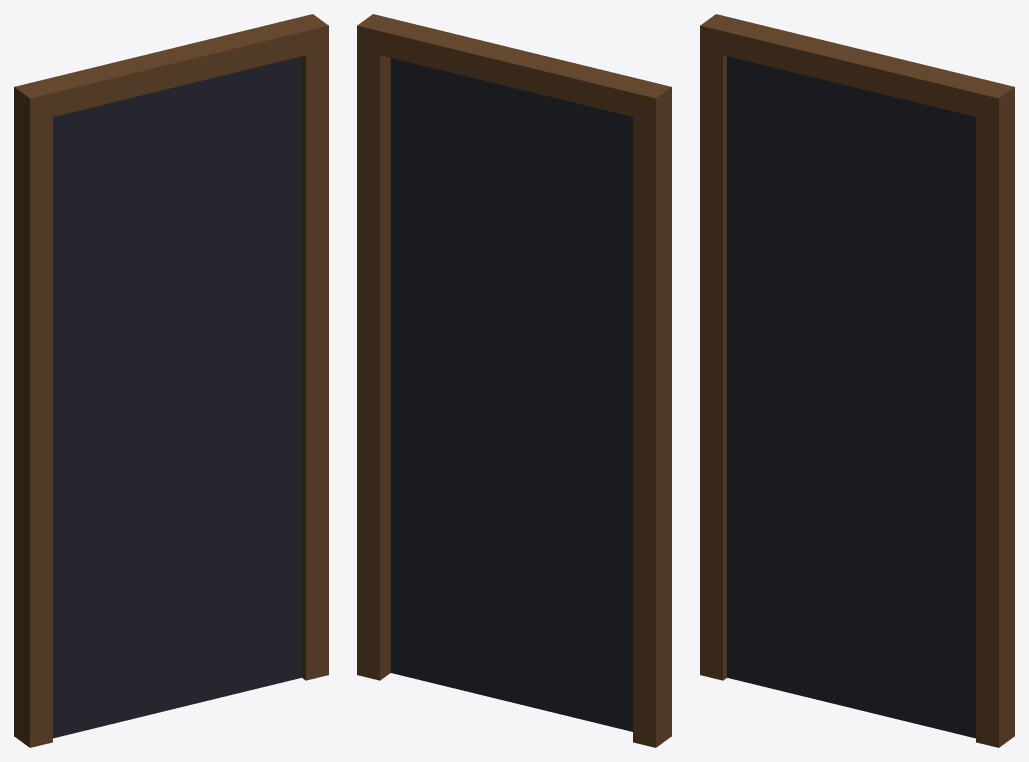
The model's file is door_frame.glb.
3 views of the same model, side by side, from view 1: azimuth 30°, elevation 25°; view 2: azimuth 150°, elevation 25°; view 3: azimuth 330°, elevation 25° (orthographic).
Visible parts, largest first — view 1: door_frame; view 2: door_frame; view 3: door_frame.
Part boxes in pixels (left/top/right/bottom): door_frame: left=14, top=14, right=328, bottom=747; door_frame: left=357, top=14, right=671, bottom=747; door_frame: left=700, top=14, right=1014, bottom=747.
Bounding box in the file's own units: 0.65 × 1.35 × 0.06.
1 material, 1 textured.
